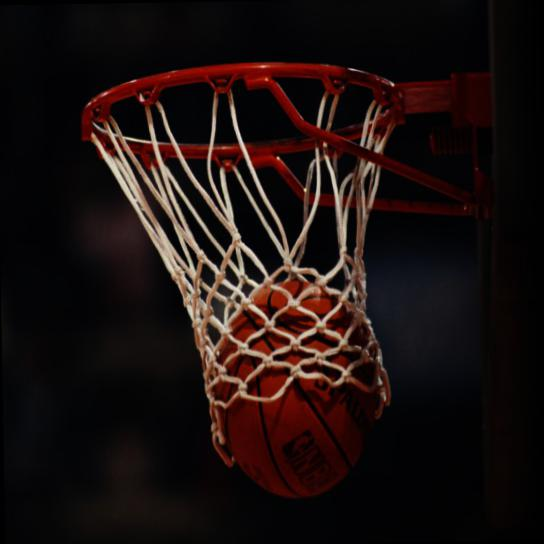basketball-hoop: (69, 52, 412, 476)
